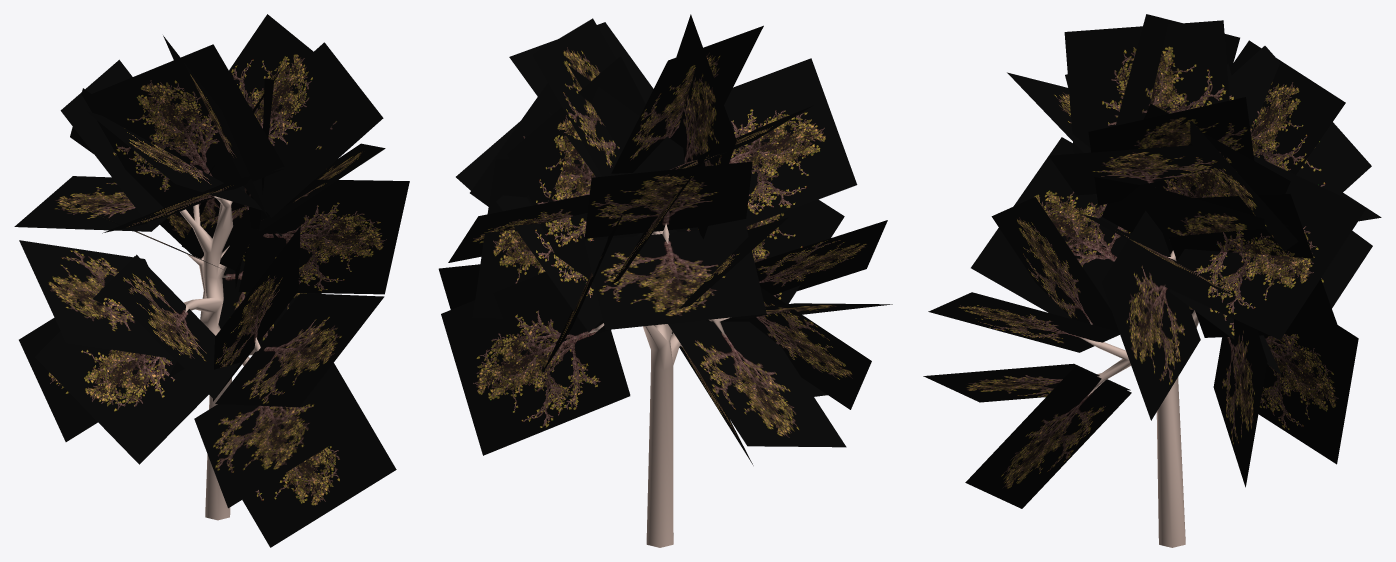
File: tree18.glb
3 views of the same model, side by side, from view 1: azimuth 30°, elevation 25°; view 2: azimuth 150°, elevation 25°; view 3: azimuth 270°, elevation 25° (orthographic). The views are drawn at different scales.
Size of the model in its own units: 5.46 by 7.09 by 5.68.
Materials: 2 (1 with a texture image).
